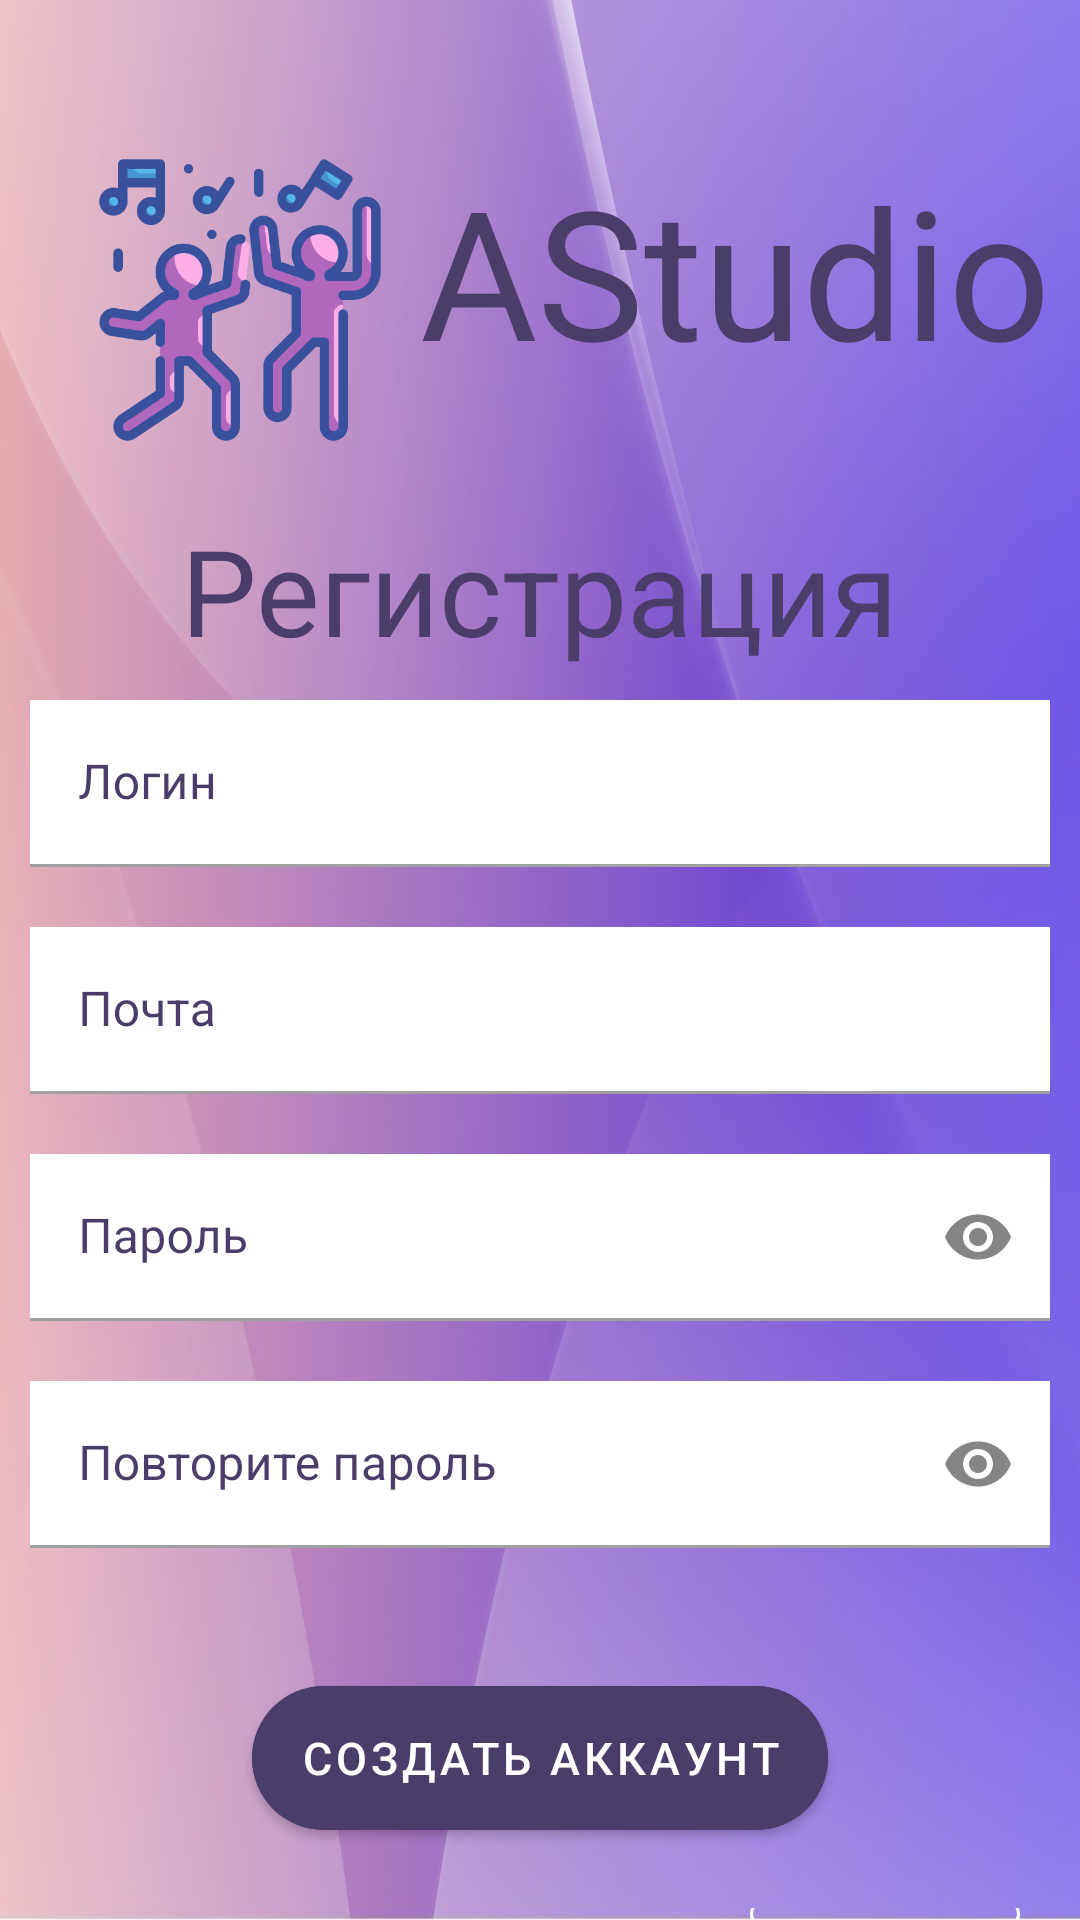

Where to tap for icons on this 1080×1920 app screen, as (x=x, y=y):
dance: (x=240, y=300)
